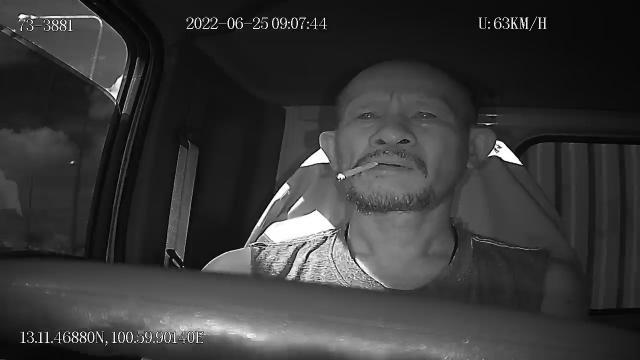SafeDriving: (404, 100, 444, 131), (348, 102, 387, 128)
Smoking: (337, 163, 377, 181)
